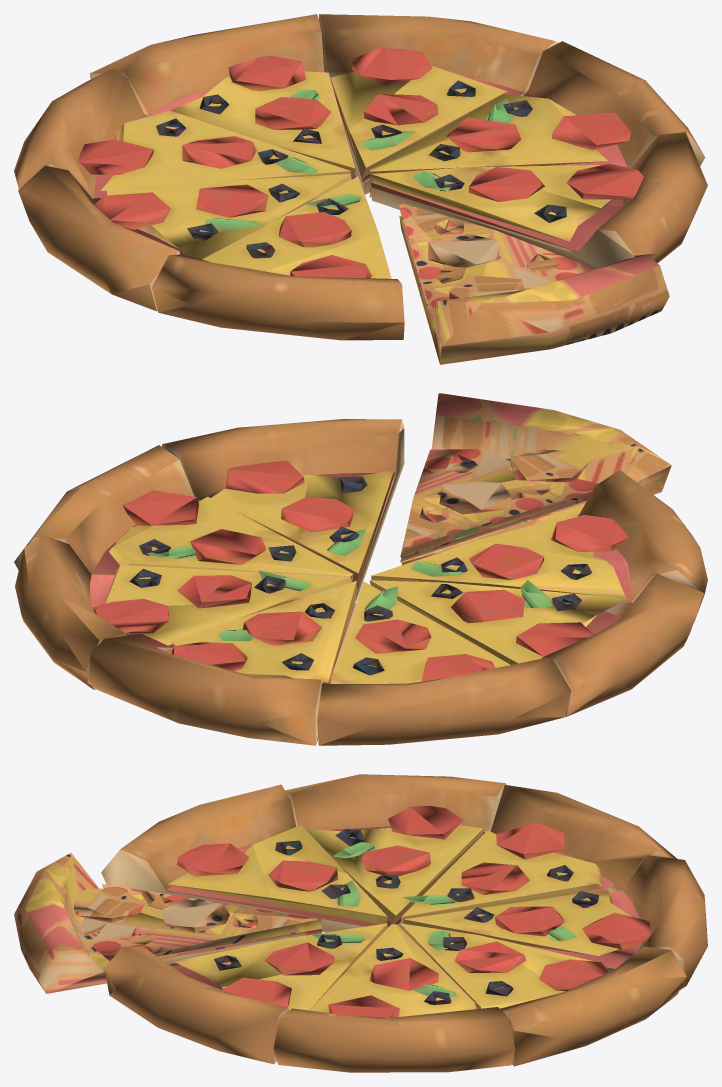
File: food-pizza.glb
3 renders of one model, top to bottom at view 1: azimuth 30°, elevation 25°; view 2: azimuth 150°, elevation 25°; view 3: azimuth 270°, elevation 25°, orthographic. The views are drawn at different scales.
Visible parts, largest first — view 1: pizza_body; view 2: pizza_body; view 3: pizza_body.
Boxes of the visible parts, x1,y1,x2,y2 form: pizza_body: [14, 14, 707, 364]; pizza_body: [14, 393, 707, 745]; pizza_body: [14, 774, 707, 1072].
Size of the model in its own units: 4.21 by 0.3598 by 4.6.
Materials: 1 (1 with a texture image).
